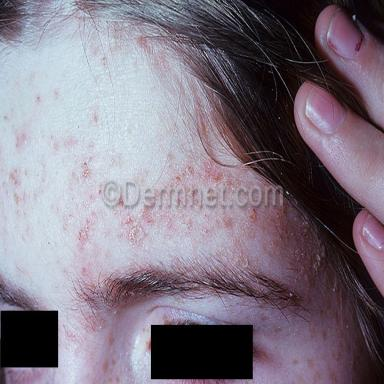Darier_s-Disease: (73, 204, 329, 287), (167, 162, 247, 186)
